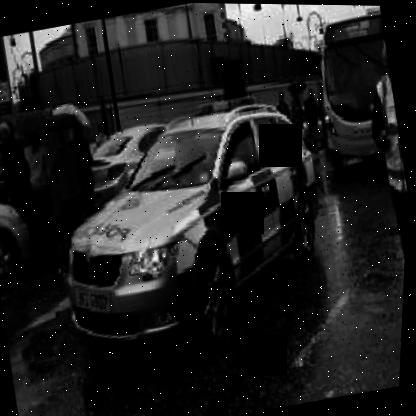emergency: (32, 80, 366, 371)
